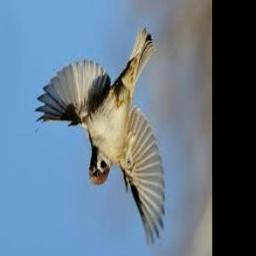Sparrow: (34, 27, 164, 247)
